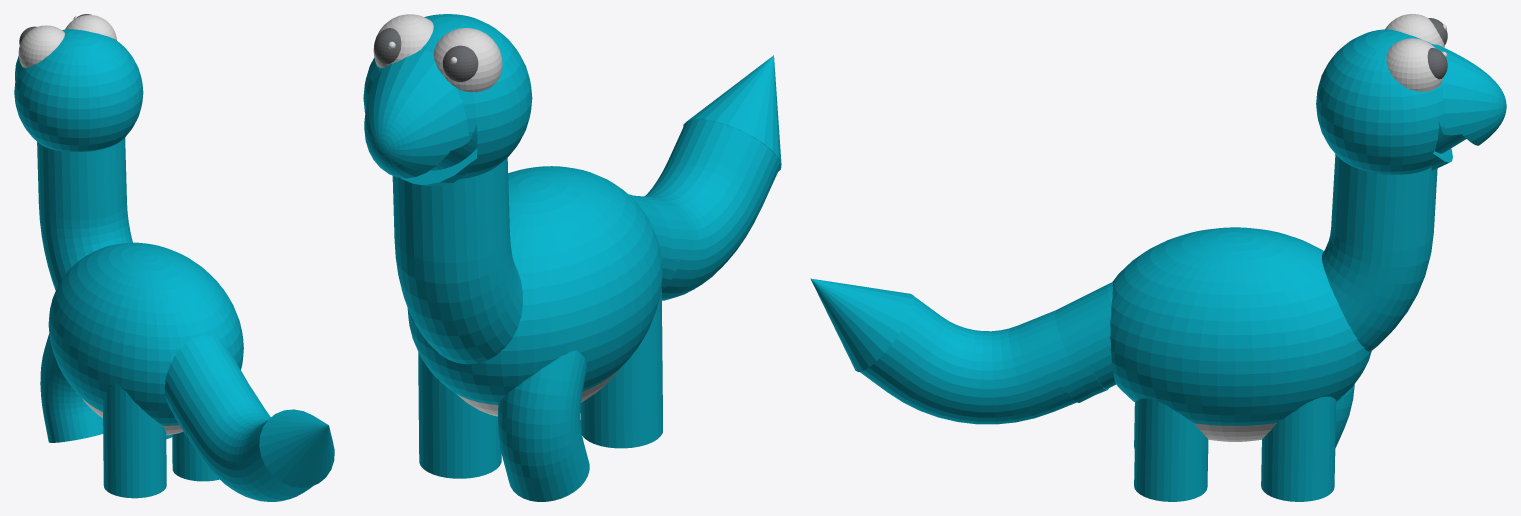
Rendered from dino.glb.
The picture shows the model from 3 angles, left to right: view 1: azimuth 30°, elevation 25°; view 2: azimuth 150°, elevation 25°; view 3: azimuth 270°, elevation 25°; orthographic projection. The views are drawn at different scales.
Visible parts, largest first — view 1: Mesh_Mesh_head_geo.001_lambert2SG.001; view 2: Mesh_Mesh_head_geo.001_lambert2SG.001; view 3: Mesh_Mesh_head_geo.001_lambert2SG.001.
Boxes of the visible parts, <box> form: Mesh_Mesh_head_geo.001_lambert2SG.001: <box>14,14,334,501</box>; Mesh_Mesh_head_geo.001_lambert2SG.001: <box>363,14,781,501</box>; Mesh_Mesh_head_geo.001_lambert2SG.001: <box>810,14,1506,501</box>.
Size of the model in its own units: 35.82 by 84.42 by 121.
